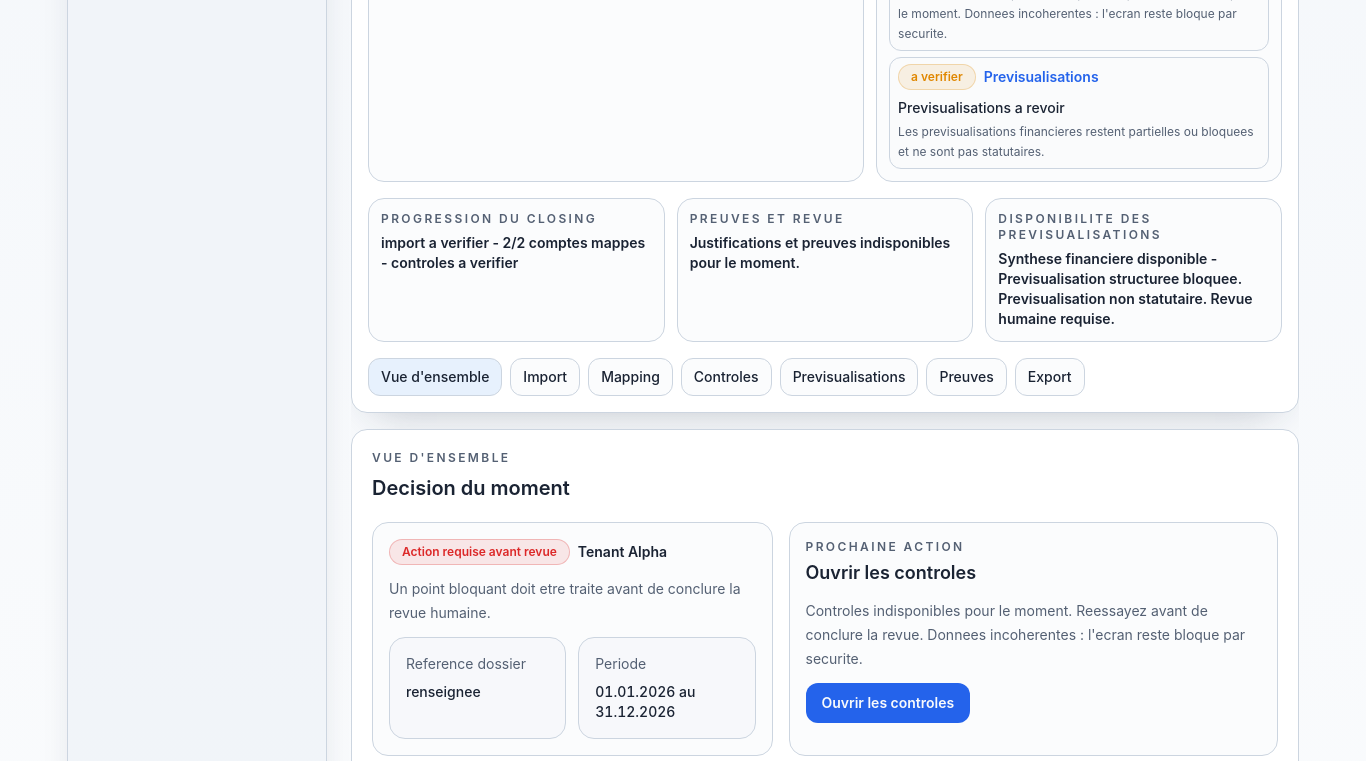
Scenario: router financial summary › renders the PREVIEW_READY preview state and the required non-statutory reminder
The image size is (1366, 761).
(page scrolled)
Click the tab "Previsualisations" at (849, 377), box 780,358 -> 918,396
(page scrolled)
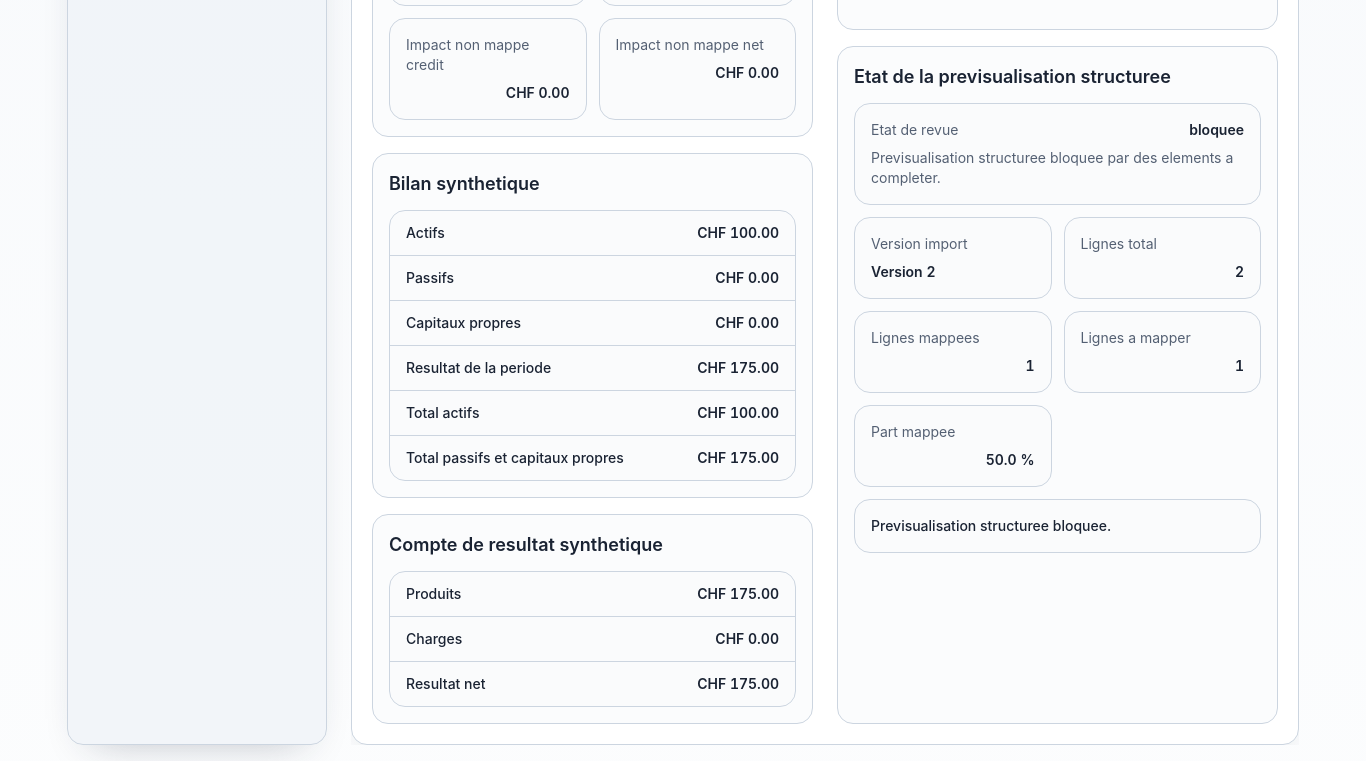
Now the text "Impact non mappe credit" is shown, box 406,36 -> 529,73
Now the text "Impact non mappe net" is shown, box 616,35 -> 779,55
Now the heading "Bilan synthetique" is shown, box 389,173 -> 540,194
